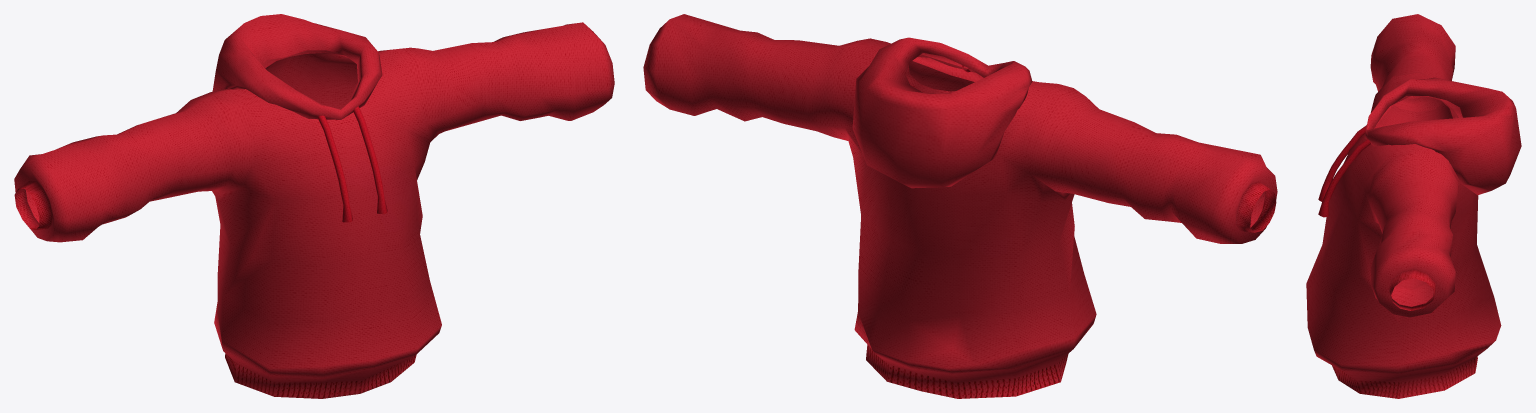
File: hoodie.glb
The picture shows the model from 3 angles, left to right: view 1: azimuth 30°, elevation 25°; view 2: azimuth 150°, elevation 25°; view 3: azimuth 270°, elevation 25°; orthographic projection. The views are drawn at different scales.
Parts seen in each view (by area): view 1: hoddie; view 2: hoddie; view 3: hoddie.
Part boxes in pixels (x1,y1,x2,y2): hoddie: (14, 14, 614, 398); hoddie: (643, 14, 1277, 398); hoddie: (1306, 14, 1521, 398).
Size of the model in its own units: 0.0411 by 0.0208 by 0.0152.
1 material, 1 textured.
